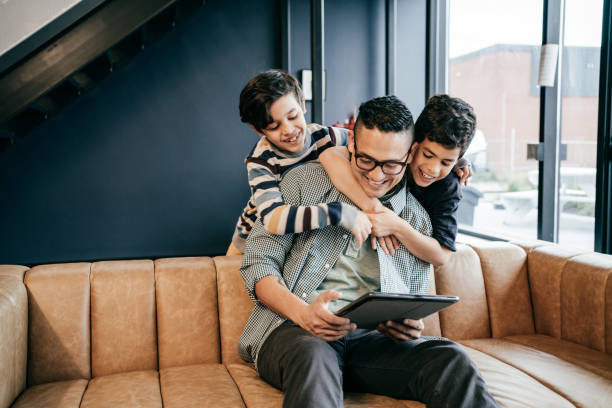without mask: (258, 89, 317, 153), (409, 126, 468, 190), (349, 125, 408, 189)
